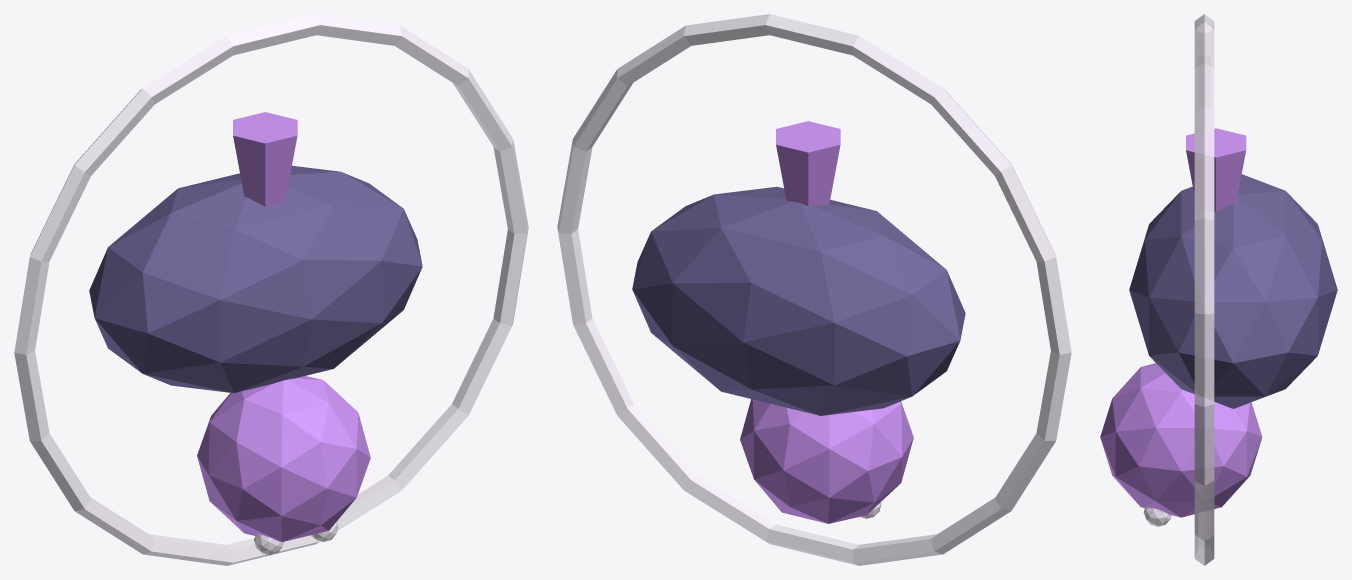
The model's file is 08_pet_companion_proc.glb.
3 renders of one model, left to right at view 1: azimuth 30°, elevation 25°; view 2: azimuth 150°, elevation 25°; view 3: azimuth 270°, elevation 25°, orthographic. The views are drawn at different scales.
Visible parts, largest first — view 1: pet_body, bonus_proc_ring, pet_head, tail_or_antenna; view 2: pet_body, bonus_proc_ring, pet_head, tail_or_antenna; view 3: pet_body, pet_head, bonus_proc_ring, tail_or_antenna, pet_eye_r.
Part boxes in pixels (left/top/right/bottom): pet_body: left=89, top=165, right=422, bottom=393; bonus_proc_ring: left=14, top=14, right=528, bottom=565; pet_head: left=197, top=376, right=370, bottom=541; tail_or_antenna: left=233, top=112, right=297, bottom=206; pet_body: left=632, top=186, right=965, bottom=415; bonus_proc_ring: left=557, top=14, right=1071, bottom=565; pet_head: left=740, top=399, right=913, bottom=523; tail_or_antenna: left=776, top=121, right=840, bottom=206; pet_body: left=1129, top=174, right=1337, bottom=408; pet_head: left=1100, top=363, right=1262, bottom=517; bonus_proc_ring: left=1194, top=14, right=1214, bottom=565; tail_or_antenna: left=1186, top=128, right=1246, bottom=211; pet_eye_r: left=1143, top=507, right=1171, bottom=526.
Size of the model in its own units: 0.956 by 0.9415 by 0.41.
